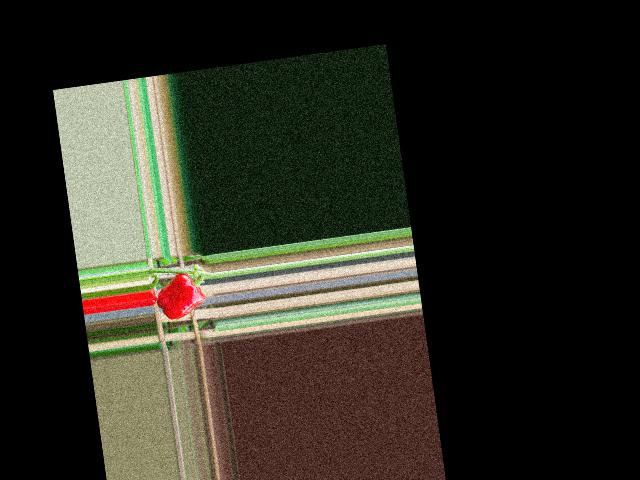bell_pepper: (153, 267, 207, 324)
